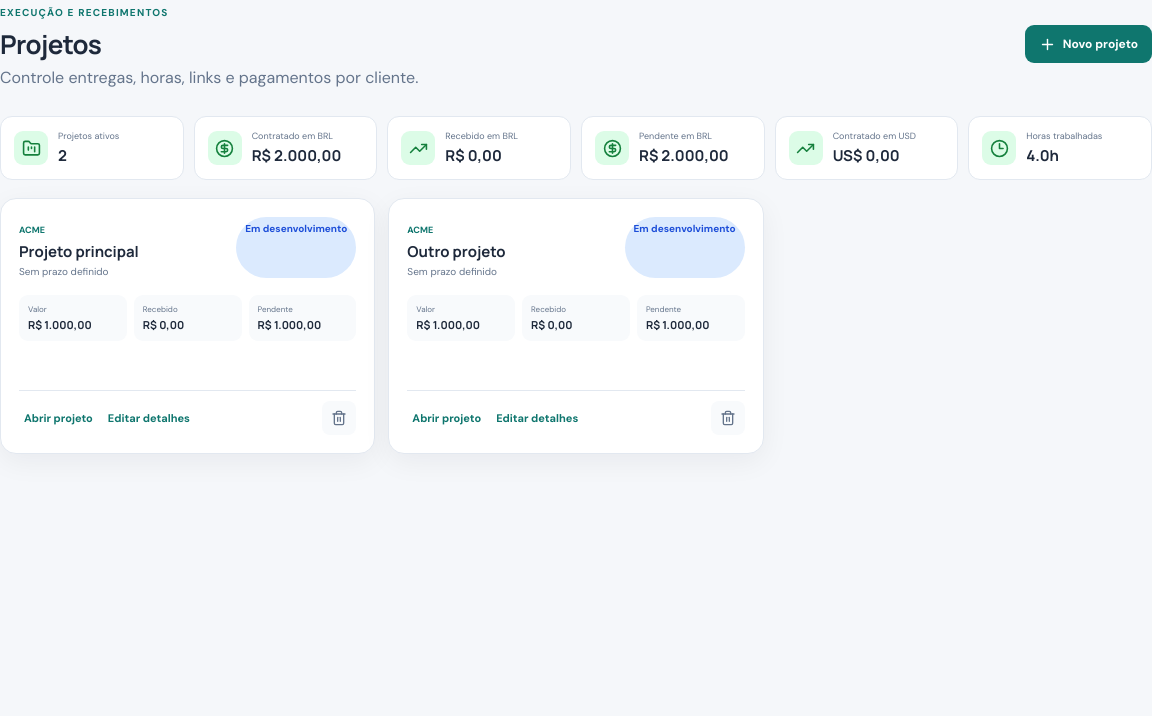
proteção de alterações não salvas no planejamento › carrega planning existente limpo, detecta mudança e reconhece o valor original
Click the button "Abrir projeto" below "Projeto principal" at (58, 418), box [19,406,98,430]
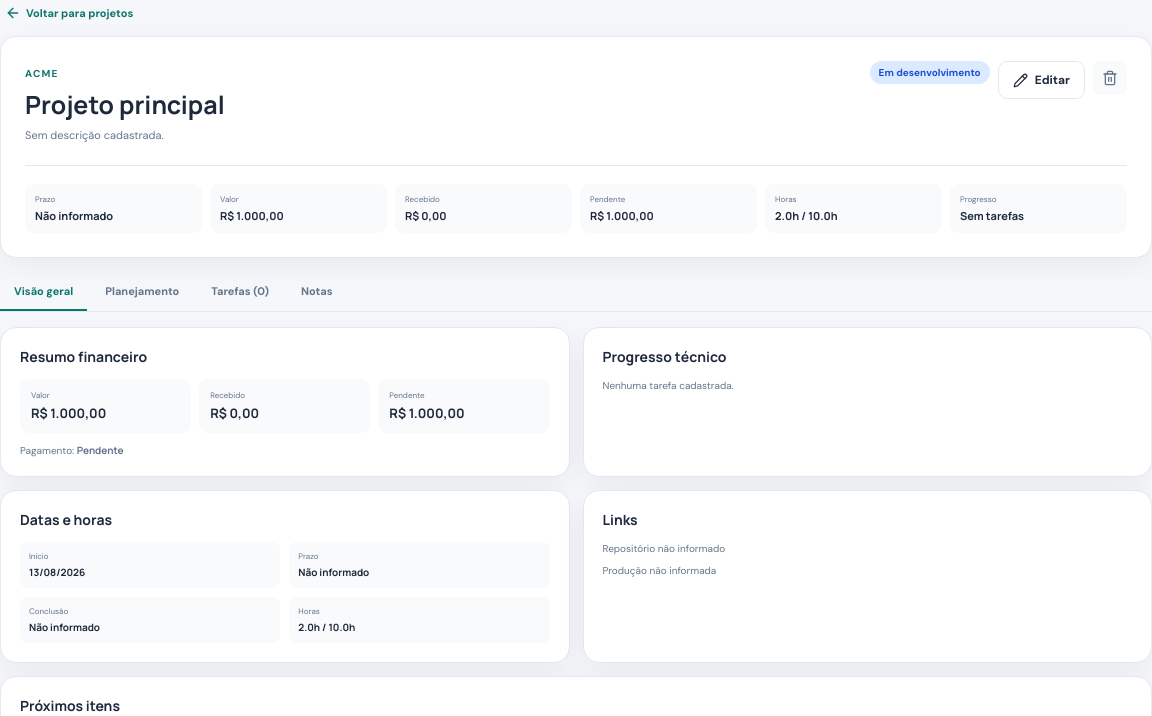
Click the tab "Planejamento" at (142, 292), box [91,273,193,311]
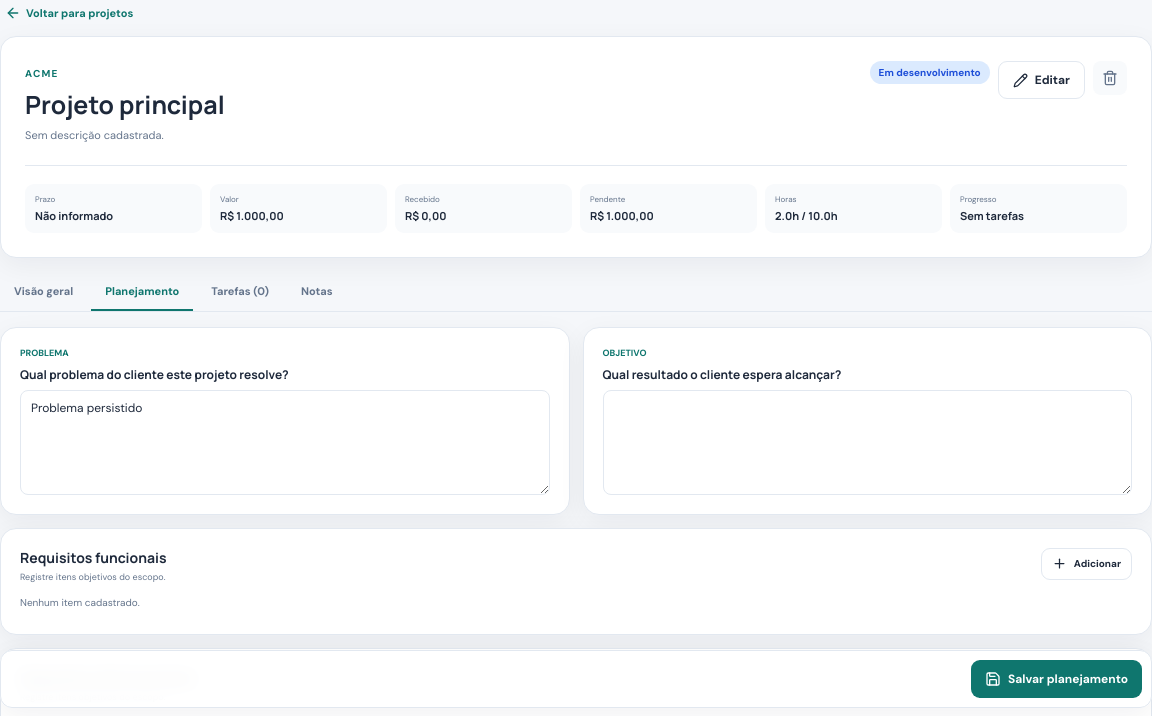
Expected: the text "● Alterações não salvas" is not shown
Result: the text box labelled "Problema Qual problema do cliente este projeto resolve?" holds "Problema persistido"
Replace the text in the text box labelled "Problema Qual problema do cliente este projeto resolve?" with "Problema alterado" at (285, 442), box [20,390,550,495]
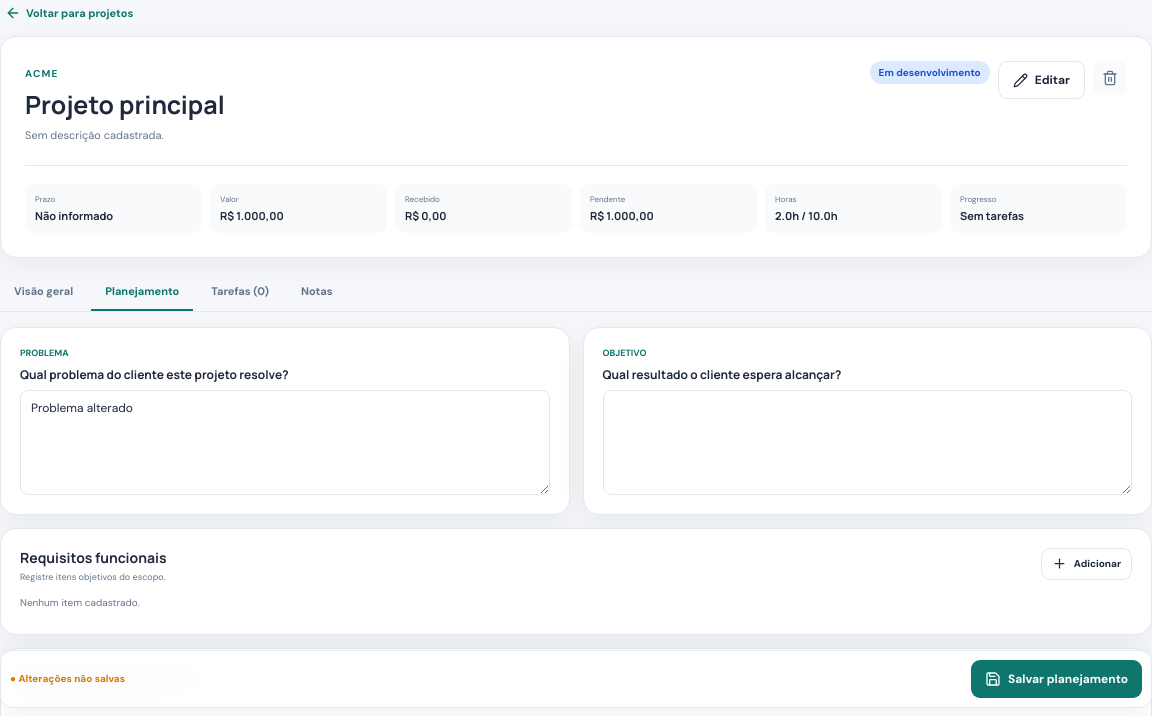
Result: the text "● Alterações não salvas" is shown at [10,672,125,686]
Replace the text in the text box labelled "Problema Qual problema do cliente este projeto resolve?" with "Problema persistido" at (285, 442), box [20,390,550,495]
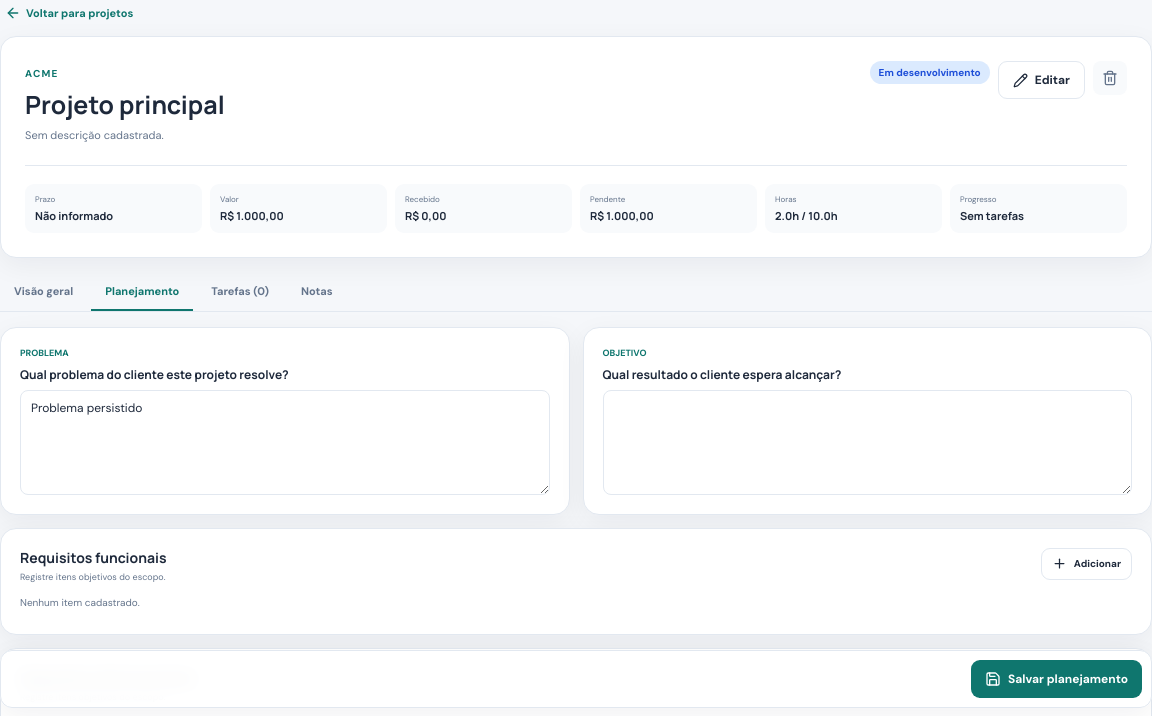
Result: the text "● Alterações não salvas" is gone
